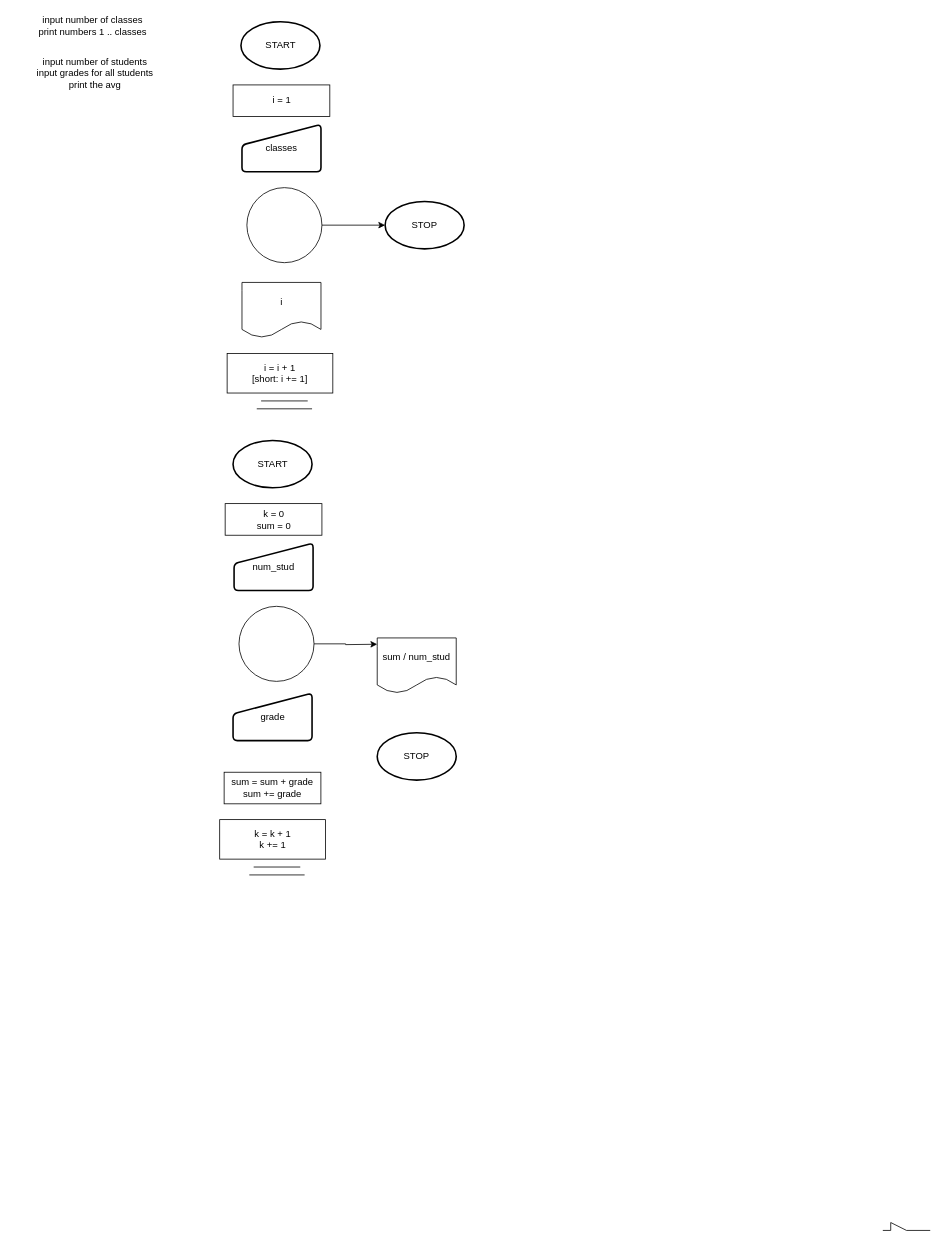
This 945x1245 diagram has some shape labels left out. The shapes that lost their labels are listed below. From the top down, each one's box as (x1, y1, x2, y2) in pixels, then its label:
(246, 187, 322, 263): while i <= classes
(238, 606, 314, 681): while k <= num_stud
